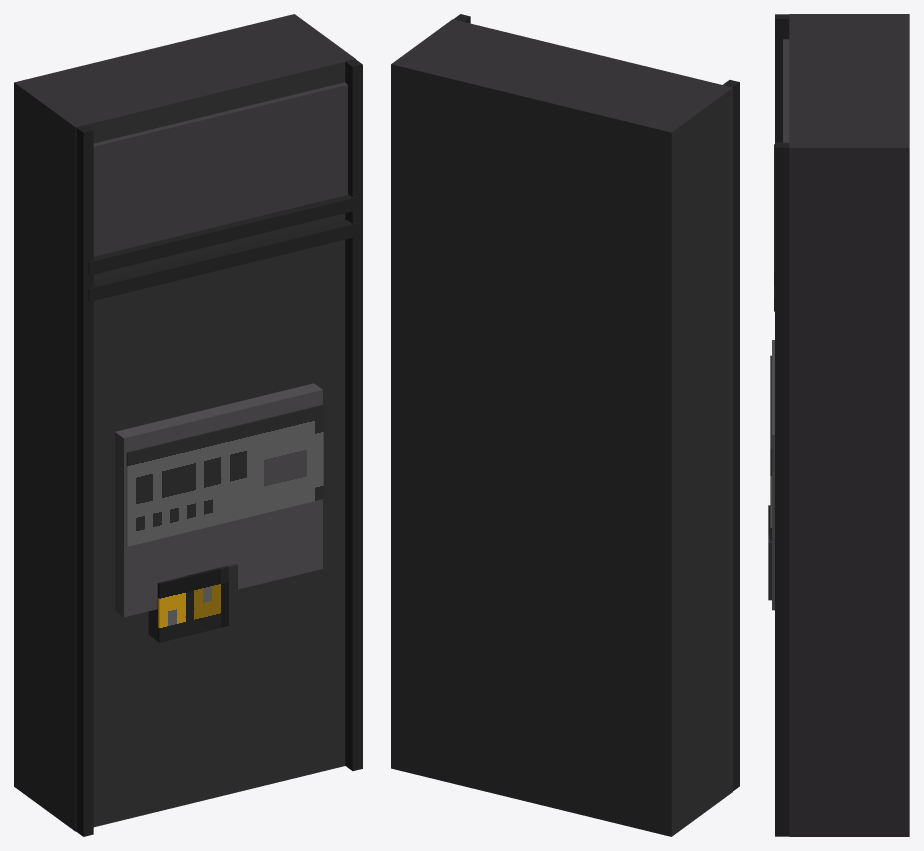
The model's file is CMU3DInheritedStructureRMCWallElevatorButtonDormCloud.glb.
3 views of the same model, side by side, from view 1: azimuth 30°, elevation 25°; view 2: azimuth 150°, elevation 25°; view 3: azimuth 270°, elevation 25° (orthographic). The views are drawn at different scales.
Visible parts, largest first — view 1: wall structural backing, upper recessed fascia, original dorm controller, recessed control fascia, outer stile -0.48, outer stile 0.48, upper rail 1.82, upper rail 1.91, yellow elevator call lights; view 2: wall structural backing, outer stile -0.48; view 3: wall structural backing, outer stile 0.48, outer stile -0.48, recessed control fascia, upper recessed fascia, original dorm controller, yellow elevator call lights.
Boxes of the visible parts, left/top/right/bottom form: wall structural backing: left=14, top=14, right=355, bottom=831; upper recessed fascia: left=93, top=82, right=347, bottom=256; original dorm controller: left=126, top=404, right=323, bottom=546; recessed control fascia: left=115, top=383, right=322, bottom=617; outer stile -0.48: left=76, top=125, right=93, bottom=836; outer stile 0.48: left=345, top=59, right=362, bottom=770; upper rail 1.82: left=88, top=220, right=358, bottom=301; upper rail 1.91: left=88, top=194, right=358, bottom=275; yellow elevator call lights: left=158, top=564, right=237, bottom=642; wall structural backing: left=391, top=19, right=732, bottom=836; outer stile -0.48: left=723, top=80, right=739, bottom=790; wall structural backing: left=789, top=14, right=909, bottom=836; outer stile 0.48: left=775, top=142, right=789, bottom=836; outer stile -0.48: left=775, top=14, right=789, bottom=142; recessed control fascia: left=772, top=340, right=774, bottom=610; upper recessed fascia: left=783, top=39, right=789, bottom=142; original dorm controller: left=770, top=355, right=772, bottom=541; yellow elevator call lights: left=768, top=505, right=771, bottom=600.
Bounding box in the file's own units: 1 × 2.4 × 0.447.
6 materials, 2 textured.
